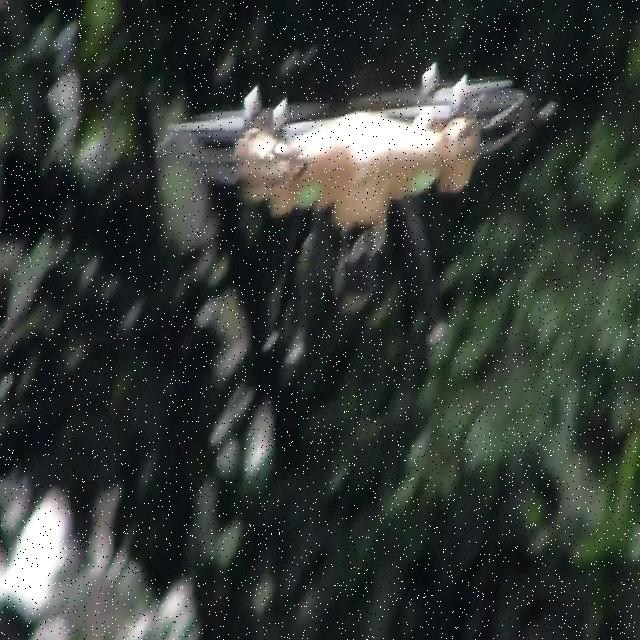UAV: (182, 61, 534, 350)
